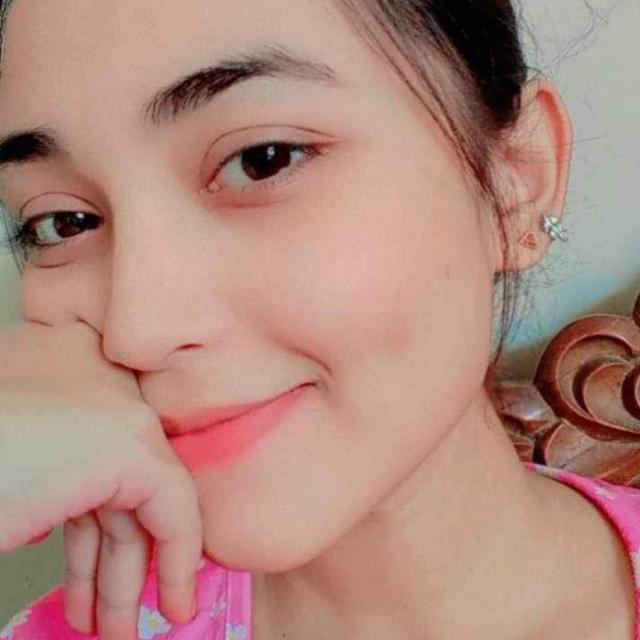Sad: (5, 7, 621, 599)
